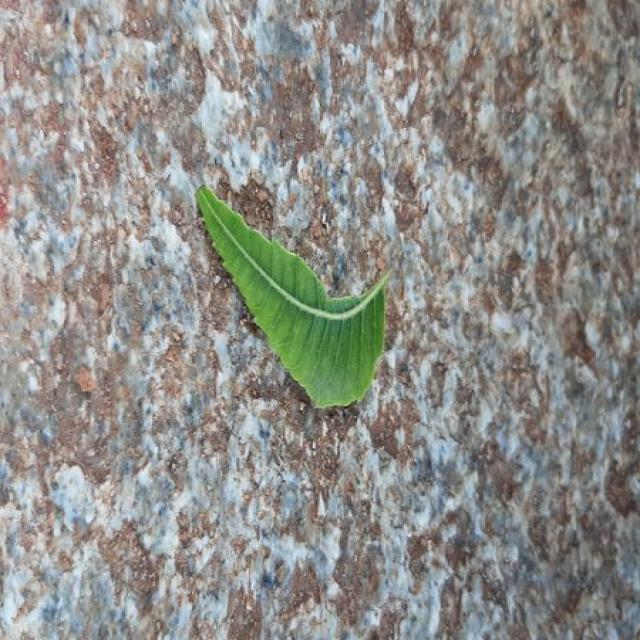neem: (197, 188, 390, 407)
